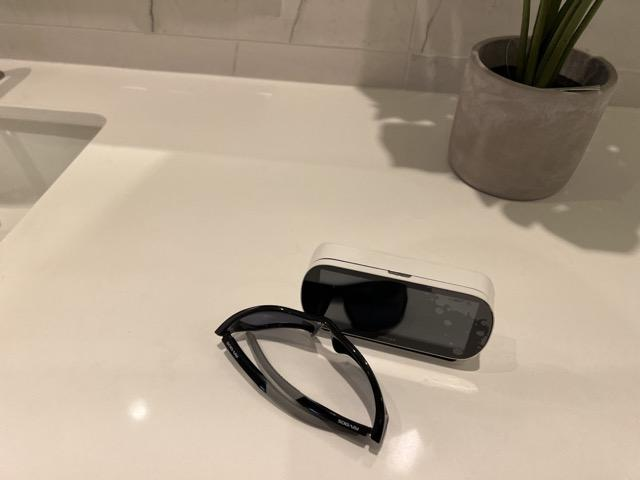Sunglasses: (215, 303, 389, 445)
